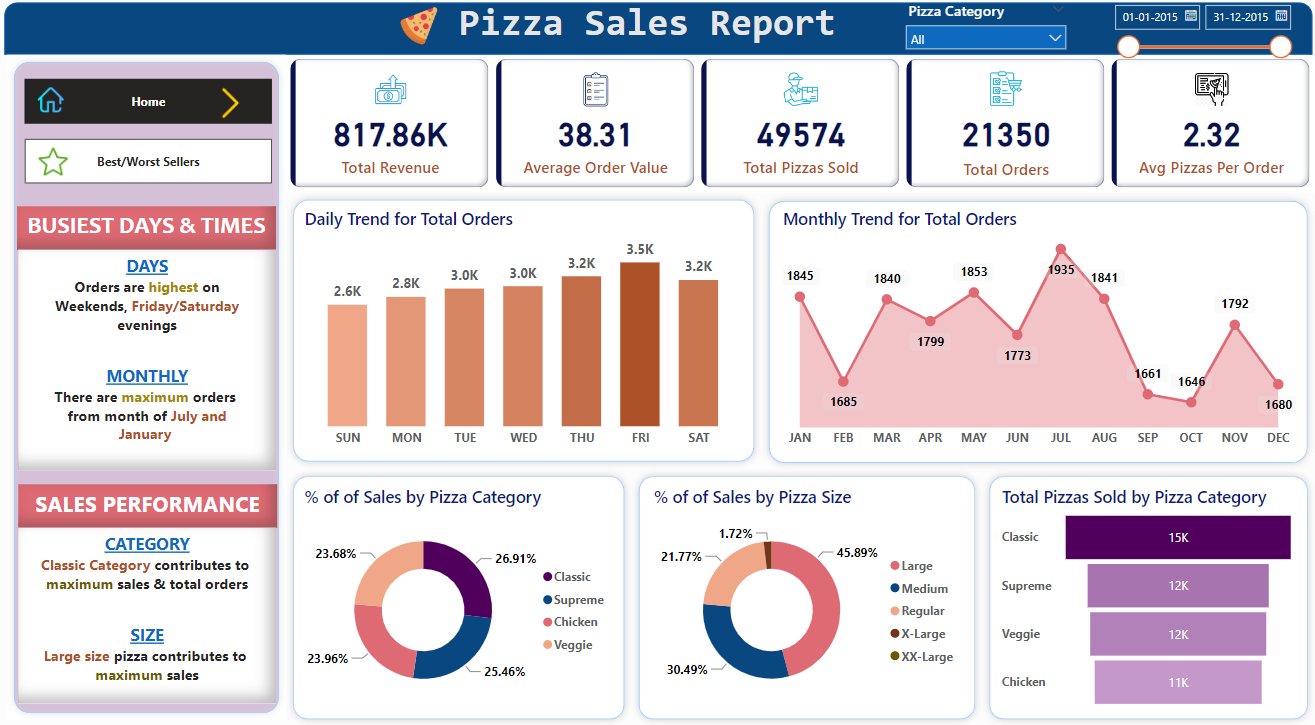

The dashboard page shown, as its layout file describes it:
{"tool":"powerbi","page":{"name":"Home","canvas":[1500,836],"ordinal":0},"visuals":[{"type":"cardVisual","fields":{"Data":["pizza_sales.Total Revenue","pizza_sales.Average Order Value","pizza_sales.Total Pizzas Sold","pizza_sales.Total Orders","pizza_sales.Avg Pizzas Per Order"]},"box":[332.9,65.7,1152.9,154.3],"z":0},{"type":"shape","box":[17.1,7.1,1465.7,58.6],"z":1000},{"type":"textbox","box":[521.3,0,463.9,65.6],"z":2000},{"type":"image","box":[442.6,6.6,77,52.5],"z":3000},{"type":"shape","box":[332.8,219.7,532.8,309.8],"z":4000},{"type":"columnChart","title":"Daily Trend for Total Orders","fields":{"Category":["pizza_sales.Order Day"],"Y":["pizza_sales.Total Orders"]},"box":[349.2,236.1,501.6,278.7],"z":5000},{"type":"shape","box":[865.6,221.3,619.7,309.8],"z":6000},{"type":"areaChart","title":"Monthly Trend for Total Orders","fields":{"Category":["pizza_sales.Order Month"],"Y":["pizza_sales.Total Orders"]},"box":[883.6,235.8,585.1,279.1],"z":7000},{"type":"shape","box":[332.9,530,387.1,288.6],"z":8000},{"type":"shape","box":[720,530,392.9,288.6],"z":9000},{"type":"shape","box":[1112.9,530,372.9,288.6],"z":10000},{"type":"donutChart","title":"% of of Sales by Pizza Category","fields":{"Category":["pizza_sales.pizza_category"],"Y":["pizza_sales.Total Revenue"]},"box":[348.6,547.1,354.3,257.1],"z":11000},{"type":"donutChart","title":"% of of Sales by Pizza Size","fields":{"Category":["pizza_sales.pizza_size"],"Y":["pizza_sales.Total Revenue"]},"box":[740,547.1,354.3,257.1],"z":12000},{"type":"shape","box":[20,65.7,312.9,745.7],"z":13000},{"type":"funnel","title":"Total Pizzas Sold by Pizza Category","fields":{"Category":["pizza_sales.pizza_category"],"Y":["pizza_sales.Total Pizzas Sold"]},"box":[1129.9,547.8,338.8,256.7],"z":14000},{"type":"textbox","box":[31.4,235.7,290,48.6],"z":15000},{"type":"textbox","box":[32.9,547.1,290,48.6],"z":16000},{"type":"textbox","box":[32.9,284.3,288.6,247.1],"z":17000},{"type":"textbox","box":[32.9,595.7,288.6,197.1],"z":18000},{"type":"slicer","fields":{"Values":["pizza_sales.order_date"]},"box":[1248.6,0,220,87.1],"z":19000},{"type":"slicer","fields":{"Values":["pizza_sales.pizza_category"]},"box":[1017.1,0,200,65.7],"z":20000},{"type":"pageNavigator","box":[40,92.9,277.1,50],"z":20001},{"type":"pageNavigator","box":[40,160,277.1,50],"z":20002},{"type":"image","box":[248.6,97.1,44.3,45.7],"z":20003},{"type":"image","box":[50,97.1,38.6,38.6],"z":20004},{"type":"image","box":[50,164.3,44.3,42.9],"z":20005}]}

Visuals, with their boxes in screenshot pixels (x1, y1, x2, y2), scaled from the page's 1500x836 canvas onto the 1315x725 screenshot:
cardVisual - pizza_sales.Total Revenue x pizza_sales.Average Order Value: {"left": 292, "top": 57, "right": 1303, "bottom": 191}
shape: {"left": 15, "top": 6, "right": 1300, "bottom": 57}
textbox: {"left": 457, "top": 0, "right": 864, "bottom": 57}
image: {"left": 388, "top": 6, "right": 456, "bottom": 51}
shape: {"left": 292, "top": 191, "right": 759, "bottom": 459}
"Daily Trend for Total Orders" columnChart: {"left": 306, "top": 205, "right": 746, "bottom": 446}
shape: {"left": 759, "top": 192, "right": 1302, "bottom": 461}
"Monthly Trend for Total Orders" areaChart: {"left": 775, "top": 204, "right": 1288, "bottom": 447}
shape: {"left": 292, "top": 460, "right": 631, "bottom": 710}
shape: {"left": 631, "top": 460, "right": 976, "bottom": 710}
shape: {"left": 976, "top": 460, "right": 1303, "bottom": 710}
"% of of Sales by Pizza Category" donutChart: {"left": 306, "top": 474, "right": 616, "bottom": 697}
"% of of Sales by Pizza Size" donutChart: {"left": 649, "top": 474, "right": 959, "bottom": 697}
shape: {"left": 18, "top": 57, "right": 292, "bottom": 704}
"Total Pizzas Sold by Pizza Category" funnel: {"left": 991, "top": 475, "right": 1288, "bottom": 698}
textbox: {"left": 28, "top": 204, "right": 282, "bottom": 247}
textbox: {"left": 29, "top": 474, "right": 283, "bottom": 517}
textbox: {"left": 29, "top": 247, "right": 282, "bottom": 461}
textbox: {"left": 29, "top": 517, "right": 282, "bottom": 688}
slicer - pizza_sales.order_date: {"left": 1095, "top": 0, "right": 1287, "bottom": 76}
slicer - pizza_sales.pizza_category: {"left": 892, "top": 0, "right": 1067, "bottom": 57}
pageNavigator: {"left": 35, "top": 81, "right": 278, "bottom": 124}
pageNavigator: {"left": 35, "top": 139, "right": 278, "bottom": 182}
image: {"left": 218, "top": 84, "right": 257, "bottom": 124}
image: {"left": 44, "top": 84, "right": 78, "bottom": 118}
image: {"left": 44, "top": 142, "right": 83, "bottom": 180}
